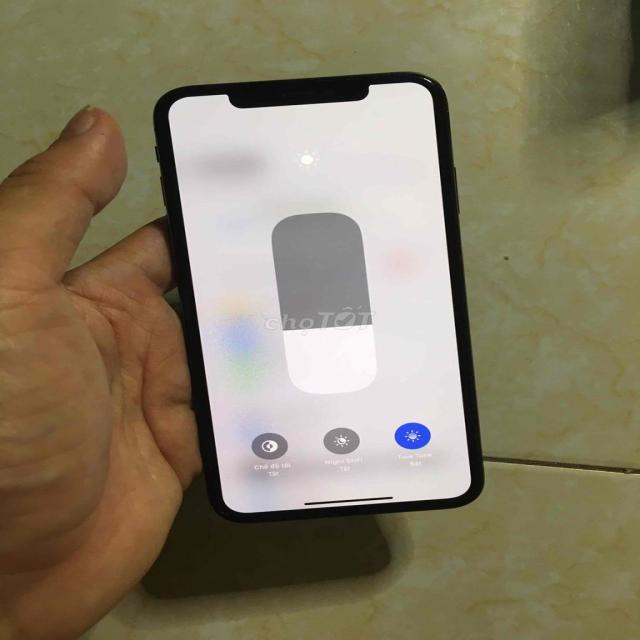gen_x_xs: (146, 70, 492, 532)
